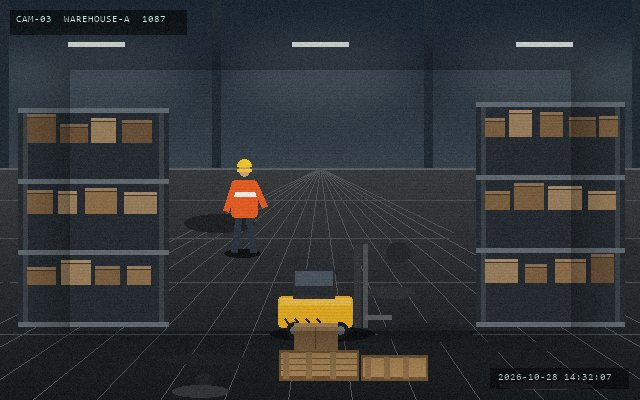forklift: (274, 242, 393, 341)
pallet: (277, 348, 360, 382), (359, 353, 429, 382)
person: (256, 196, 384, 204)
shelf: (476, 102, 624, 322), (18, 108, 168, 322)
